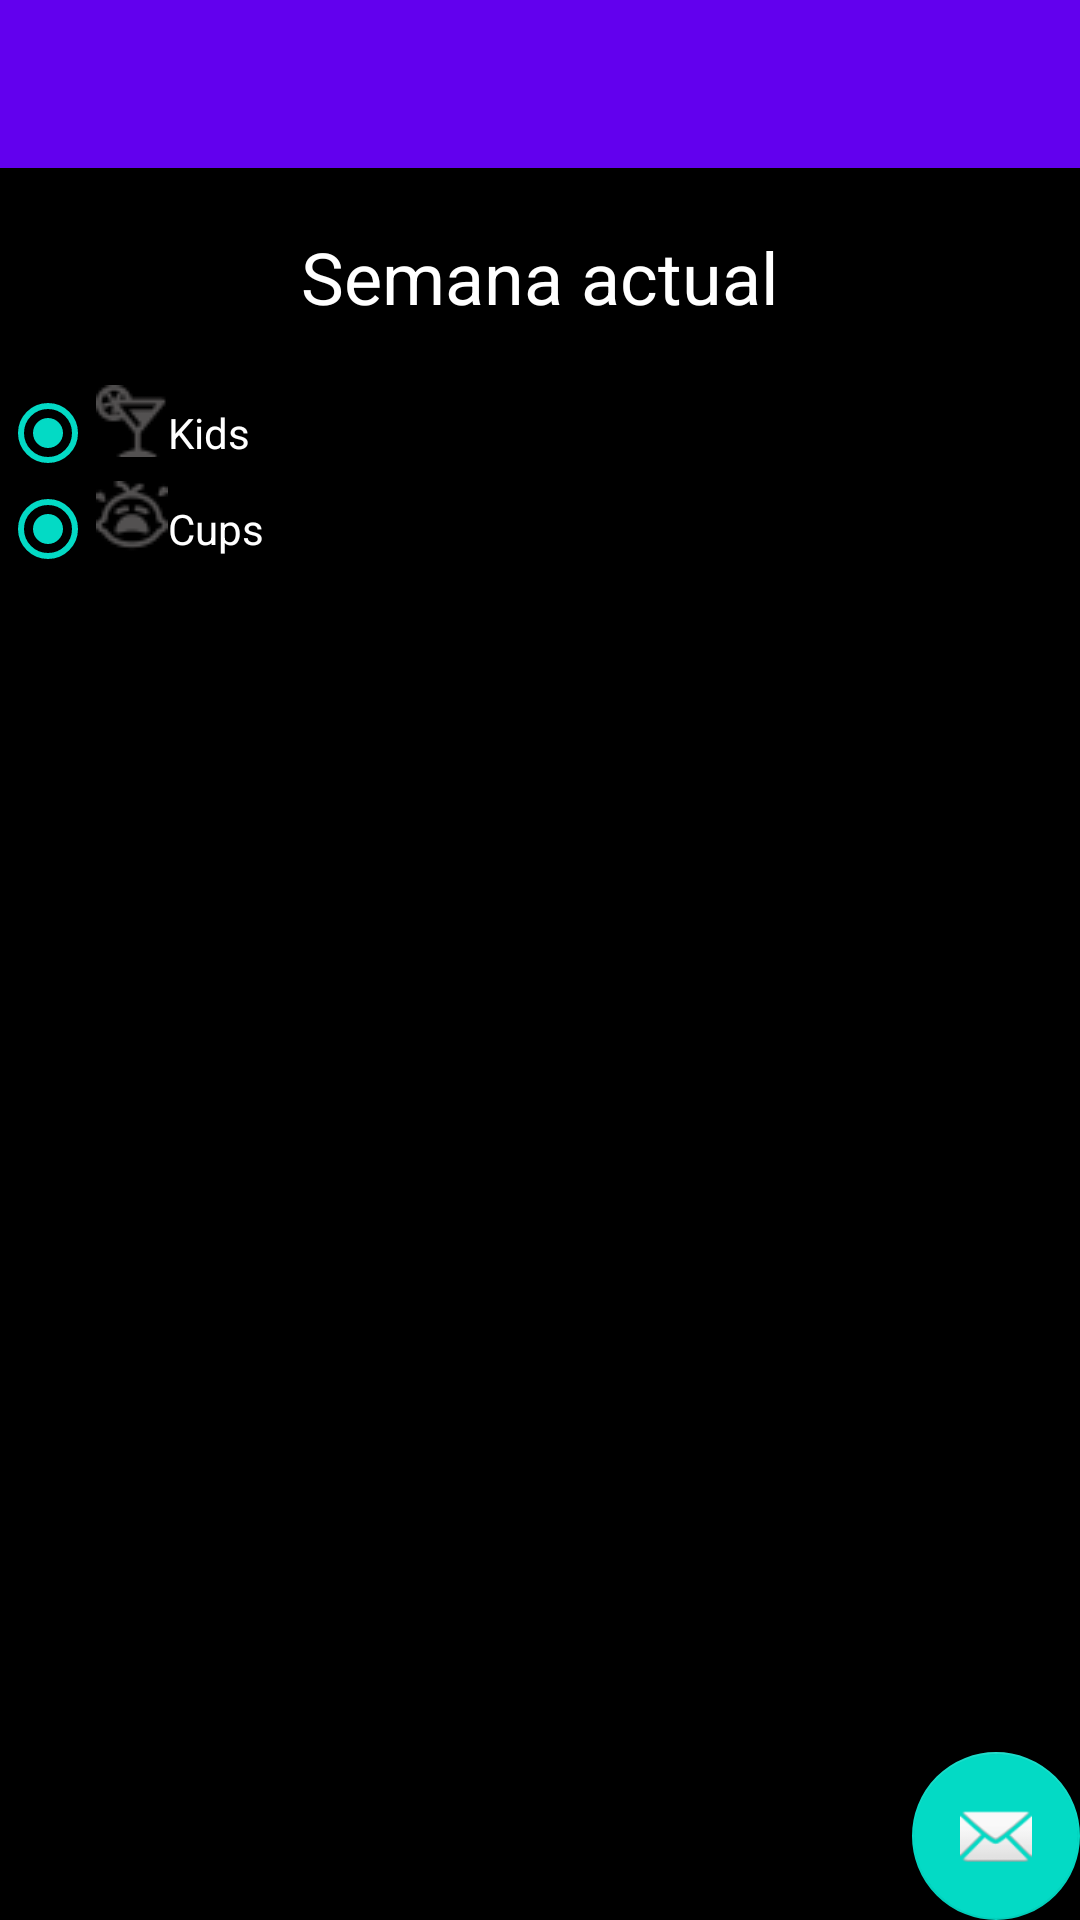

Named icons in this screenshot (1080px×1920px) and their bounding boxes, {"left": x1, "top": y1, "right": x2, "bottom": y2}:
cocktail darkgrey: {"left": 96, "top": 385, "right": 166, "bottom": 457}
crying baby darkgrey: {"left": 96, "top": 481, "right": 168, "bottom": 548}
email: {"left": 912, "top": 1752, "right": 1080, "bottom": 1920}
